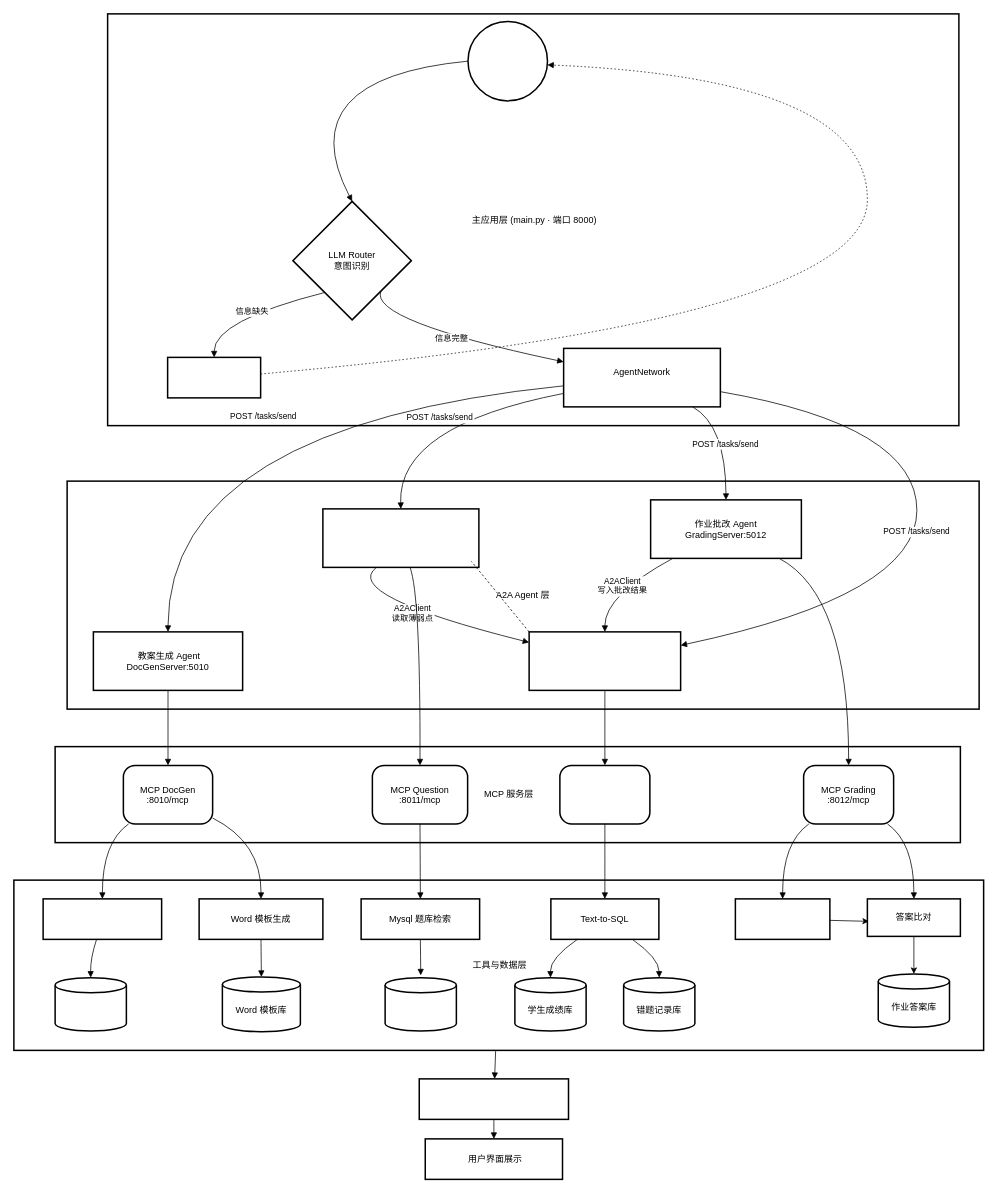
The diagram is 997 pixels wide and 1193 high, and some of its shapes have lost their labels. Here are the shapes that lost their labels. From the top down, the centre of each, then its label:
point 507,60: 用户输入
point 213,377: 追问用户
point 400,538: 出题 Agent QuestionServer:5011
point 604,661: 学情分析 Agent AnalysisServer:5013
point 604,794: MCP Analysis :8013/mcp
point 102,919: RAG 课本检索
point 782,919: OCR 识别
point 90,1003: 课本向量库
point 420,1003: 题库
point 493,1099: 结果优化 · LLM总结
